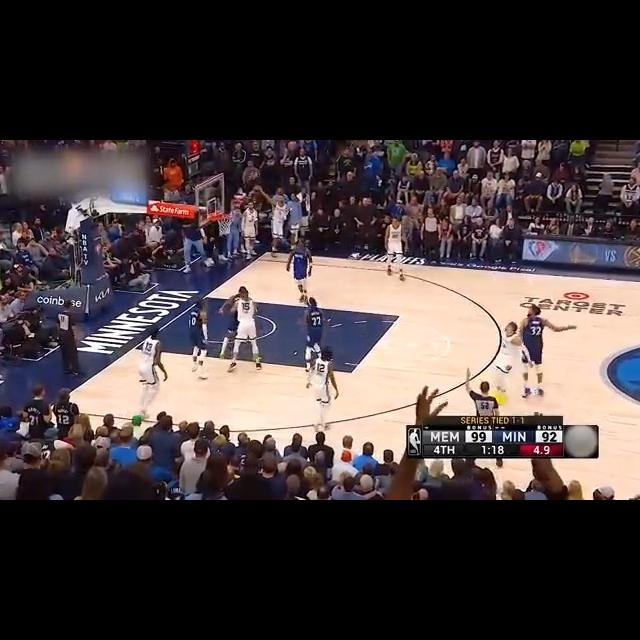basketball: (284, 141, 302, 152)
hoop: (212, 210, 237, 237)
